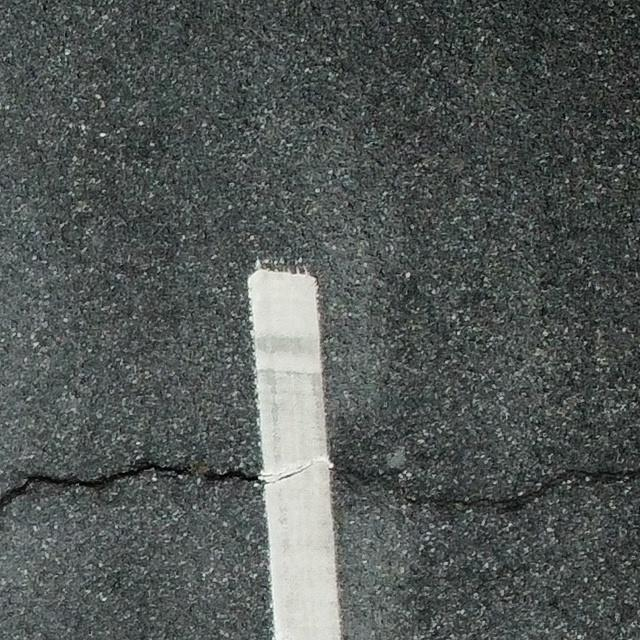TransverseCrack: (1, 458, 640, 513)
